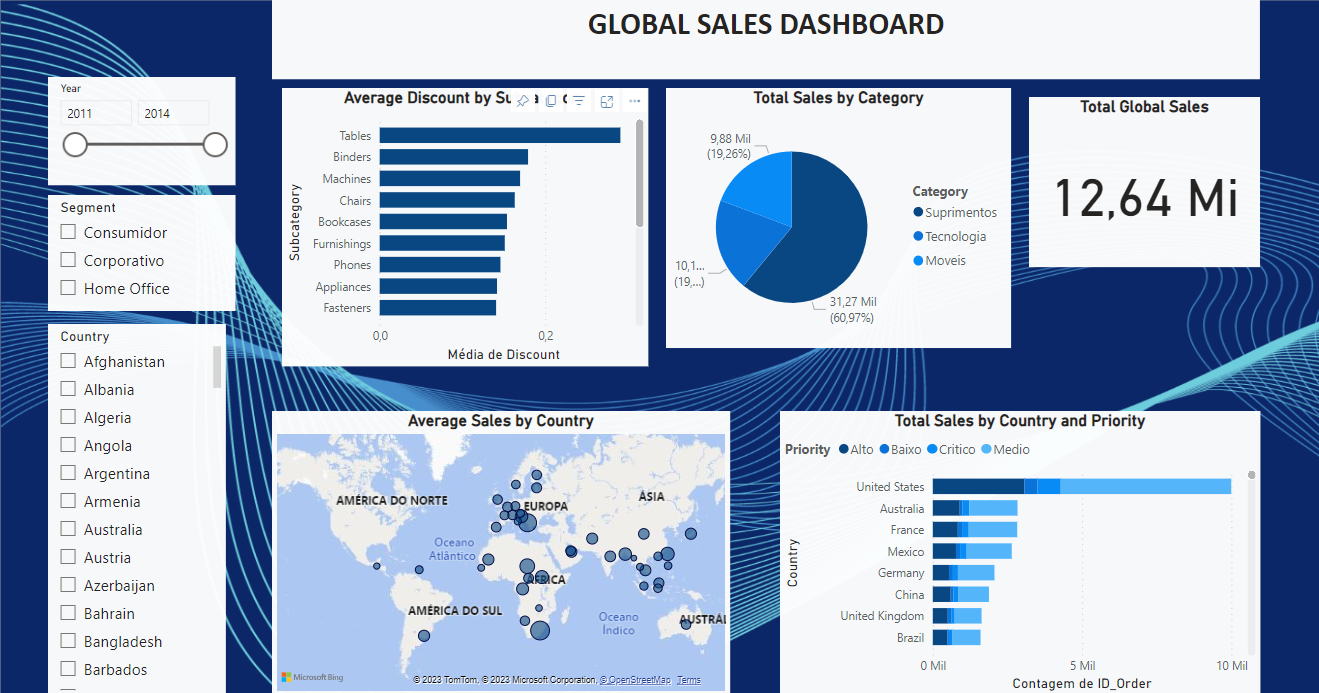

This screenshot's page, from the dashboard's own definition file:
{"tool":"powerbi","page":{"name":"Página 1","canvas":[1280,720],"ordinal":0},"visuals":[{"type":"card","title":"Total Global Sales","fields":{"Values":["Sum(Vendas.Total_Vendas)"]},"box":[1015.2,100.8,239,175.7],"z":0},{"type":"pieChart","title":"Total Sales by Category","fields":{"Category":["Vendas.Categoria"],"Y":["CountNonNull(Vendas.ID_Pedido)"]},"box":[639.4,90.7,357.1,269.3],"z":1000},{"type":"barChart","title":"Total Sales by Country and Priority","fields":{"Category":["Vendas.Pais"],"Y":["CountNonNull(Vendas.ID_Pedido)"],"Series":["Vendas.Prioridade"]},"box":[757.4,424.8,496.8,295.2],"z":2000},{"type":"clusteredBarChart","title":"Average Discount by Subcategory","fields":{"Category":["Vendas.SubCategoria"],"Y":["Avg(Vendas.Desconto)"]},"box":[241.9,90.7,378.7,288],"z":3000},{"type":"map","title":"Average Sales by Country","fields":{"Category":["Vendas.Pais"],"Size":["Avg(Vendas.Total_Vendas)"]},"box":[231.8,424.8,473.8,295.2],"z":4000},{"type":"slicer","fields":{"Values":["Vendas.Pais"]},"box":[0,335.5,184.3,384.5],"z":5000},{"type":"slicer","fields":{"Values":["Vendas.Segmento"]},"box":[0,201.6,194.4,119.5],"z":6000},{"type":"slicer","fields":{"Values":["Vendas.Data_Pedido.Variation.Hierarquia de datas.Ano"]},"box":[0,79.2,194.4,112.3],"z":7000},{"type":"textbox","box":[231.8,0,1022.4,82.1],"z":8000}]}

Visuals, with their boxes in screenshot pixels (x1, y1, x2, y2):
"Total Global Sales" card: <box>1041,92,1277,266</box>
"Total Sales by Category" pieChart: <box>671,82,1023,348</box>
"Total Sales by Country and Priority" barChart: <box>787,412,1277,692</box>
"Average Discount by Subcategory" clusteredBarChart: <box>280,82,653,366</box>
"Average Sales by Country" map: <box>270,412,736,692</box>
slicer - Vendas.Pais: <box>41,324,223,692</box>
slicer - Vendas.Segmento: <box>41,192,233,310</box>
slicer - Vendas.Data_Pedido.Variation.Hierarquia de datas.Ano: <box>41,71,233,182</box>
textbox: <box>270,0,1277,74</box>
